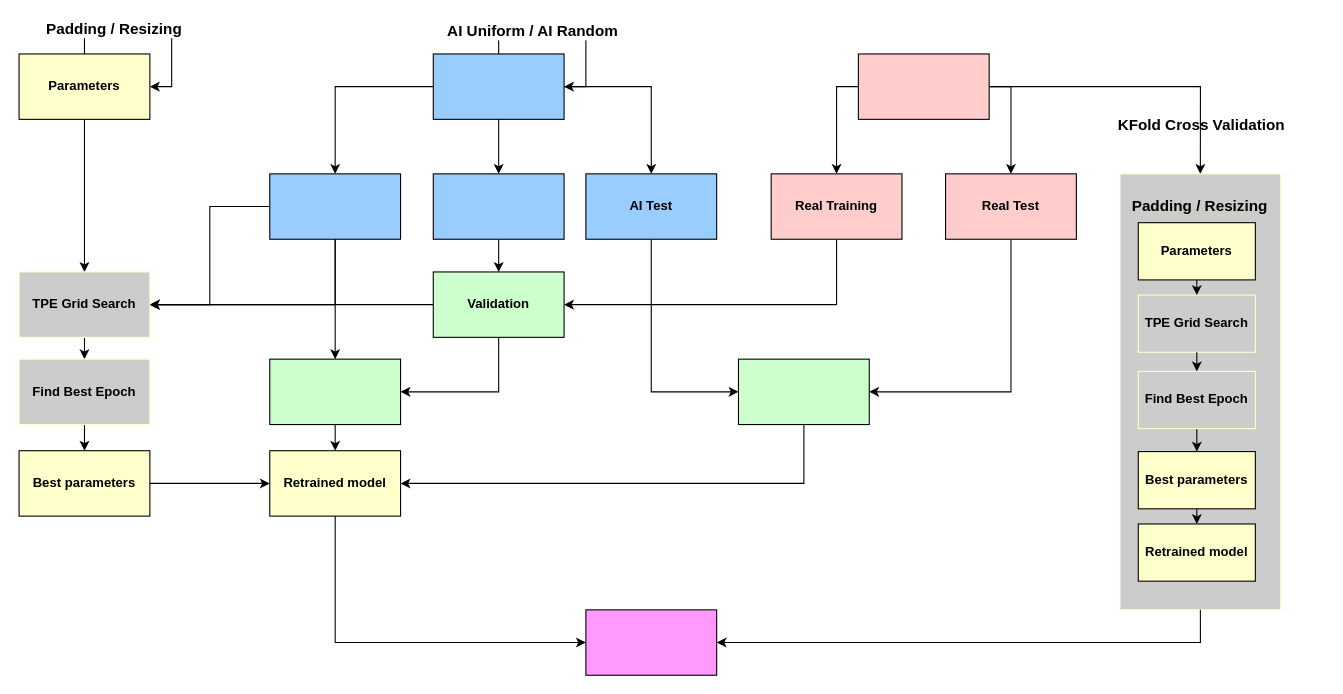
The diagram is 1343 pixels wide and 694 high, and some of its shapes have lost their labels. Here are the shapes that lost their labels. From the top down, the centre of each, then its label:
At point 498,86: "Dataset Artificial (AI)".
At point 923,86: "Dataset Real (Real)".
At point 335,206: "AI Training".
At point 498,206: "AI Validation".
At point 335,391: "Training Data".
At point 803,391: "Test Data".
At point 651,642: "Final evaluation".
